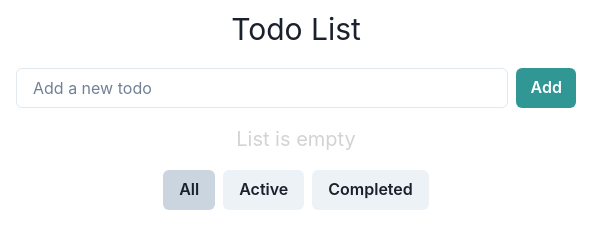
TodoApp › adds a new todo
Type "New Todo" into the field with placeholder "Add a new todo" at (262, 88), box [16,68,508,108]
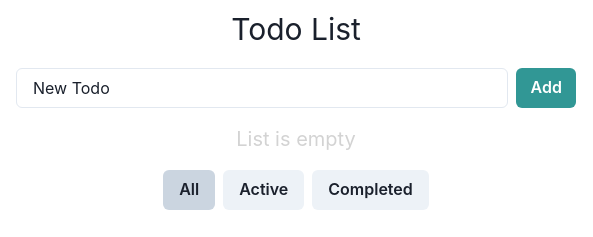
Click the button "Add" at (546, 88), box [516,68,576,108]
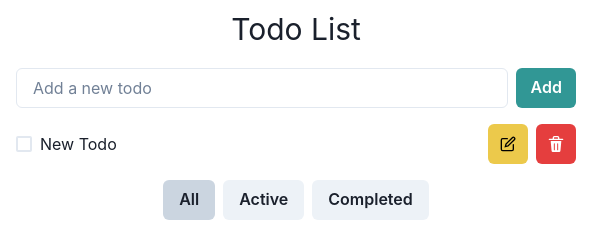
Expected: the text "New Todo" is shown, [40,134,117,154]
